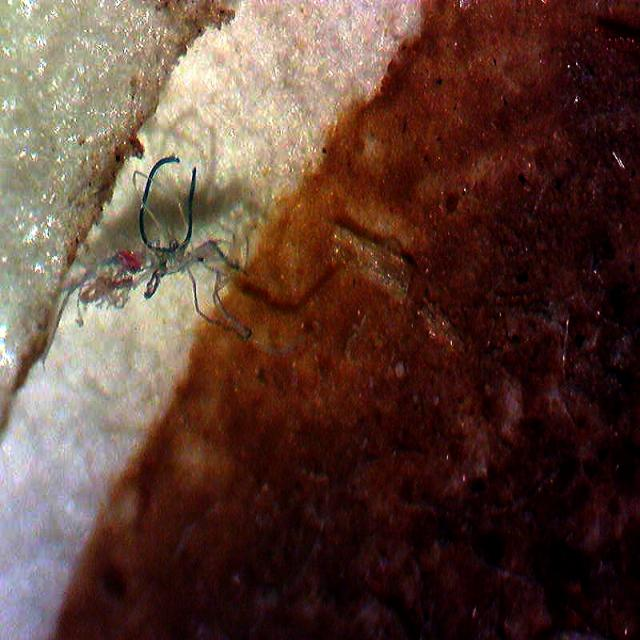microplastic: (139, 156, 197, 255)
